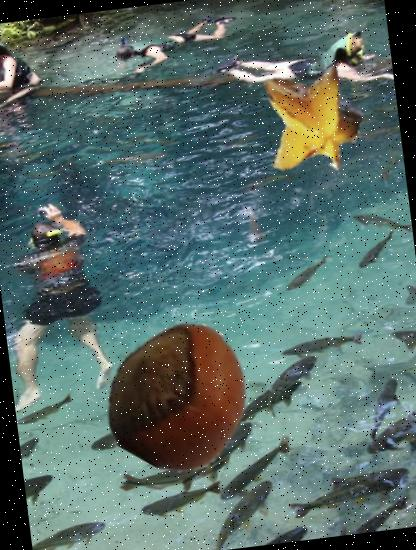Carambula: (248, 54, 380, 186)
Nut: (96, 312, 262, 478)
